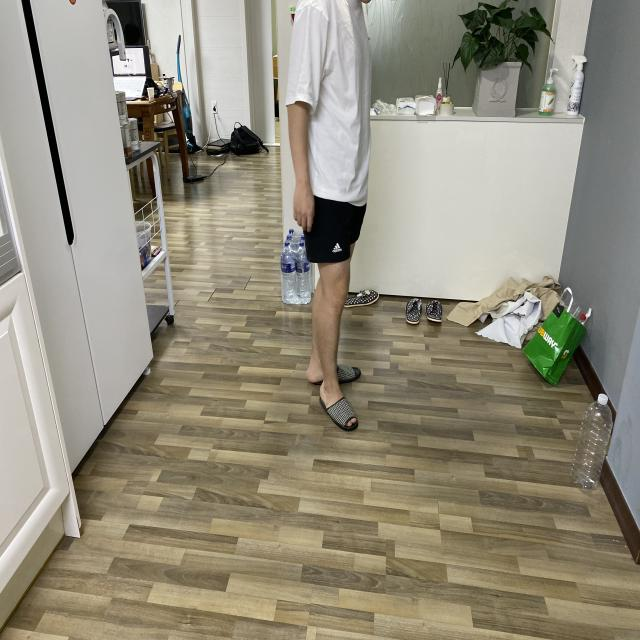no-boots: (312, 378, 363, 454)
